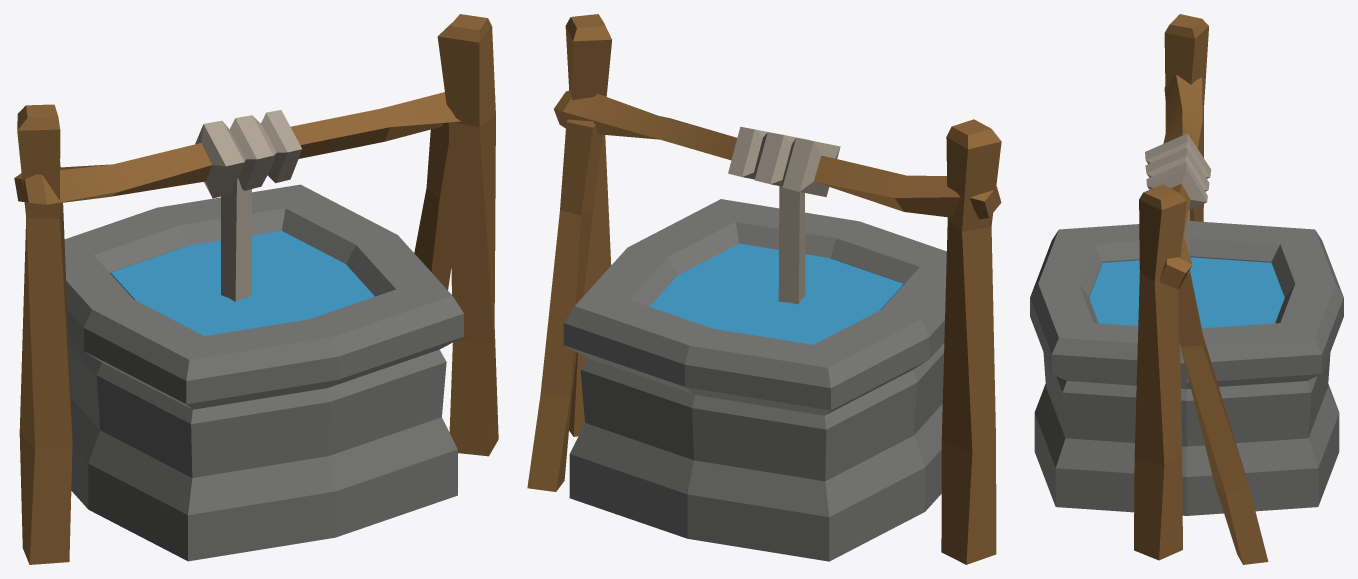
File: buil_pool01.FBX
The picture shows the model from 3 angles, left to right: view 1: azimuth 30°, elevation 25°; view 2: azimuth 150°, elevation 25°; view 3: azimuth 270°, elevation 25°; orthographic projection. The views are drawn at different scales.
Parts seen in each view (by area): view 1: buil_pool01, buil_pool01_water03; view 2: buil_pool01, buil_pool01_water03; view 3: buil_pool01, buil_pool01_water03.
Boxes of the visible parts, x1,y1,x2,y2 form: buil_pool01: (14,14,498,564); buil_pool01_water03: (110,231,374,335); buil_pool01: (527,14,1001,564); buil_pool01_water03: (649,243,903,344); buil_pool01: (1030,14,1343,564); buil_pool01_water03: (1089,257,1284,328).
Bounding box in the file's own units: 161 × 146 × 110.
Materials: 1 (1 with a texture image).
